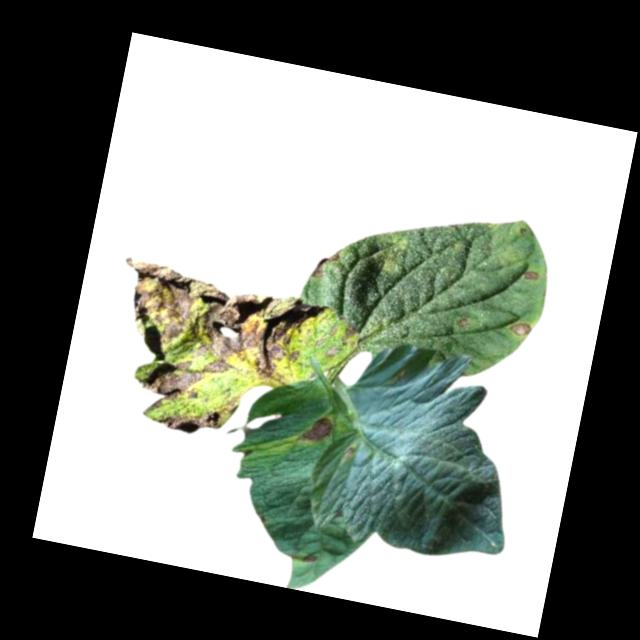Early_blight: (101, 255, 323, 419), (153, 398, 231, 444), (310, 246, 343, 282), (301, 413, 336, 445), (507, 318, 535, 338), (339, 323, 361, 346), (521, 268, 542, 282), (302, 550, 318, 565), (344, 444, 357, 461)
